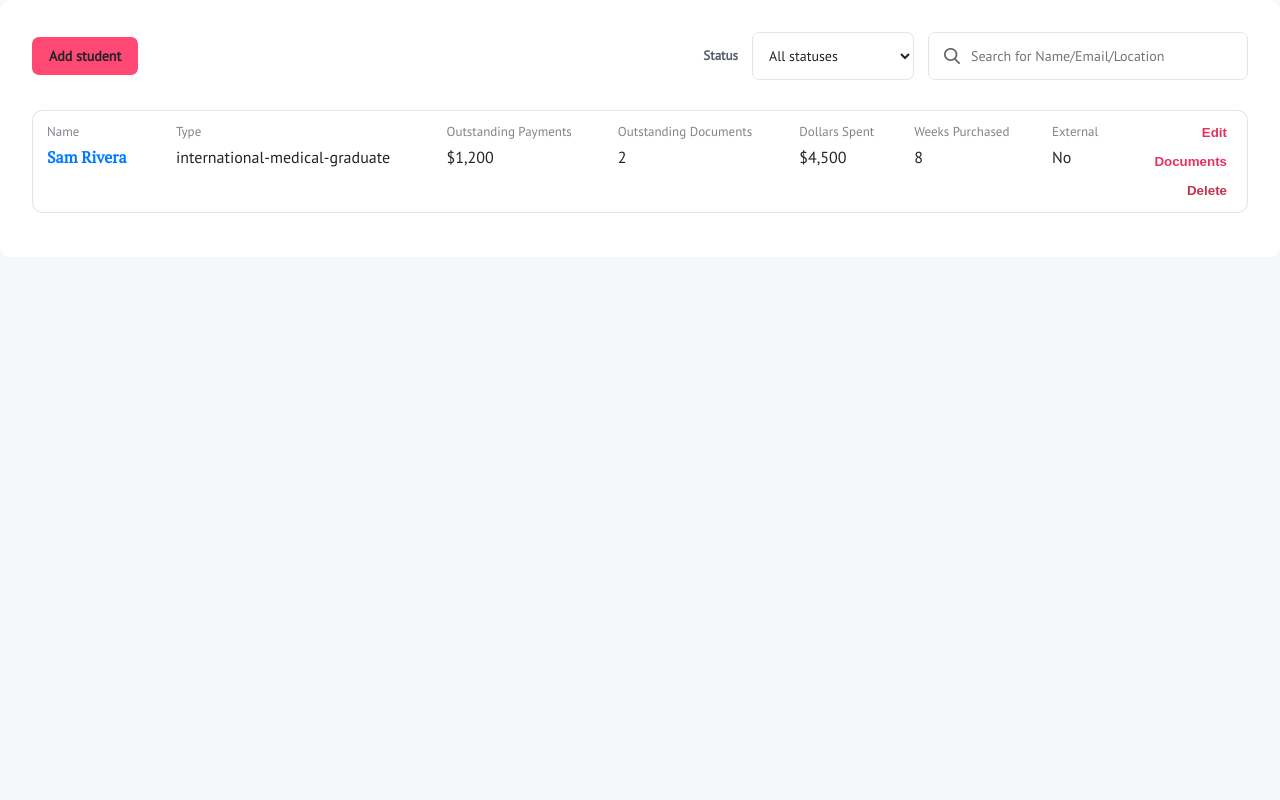
Test: StudentsPage › surfaces a server duplicate-email error in the form
Expected: the link "Sam Rivera" is shown, [47,146,126,168]
Click the button "Add student" at (85, 56), box [32,37,138,75]
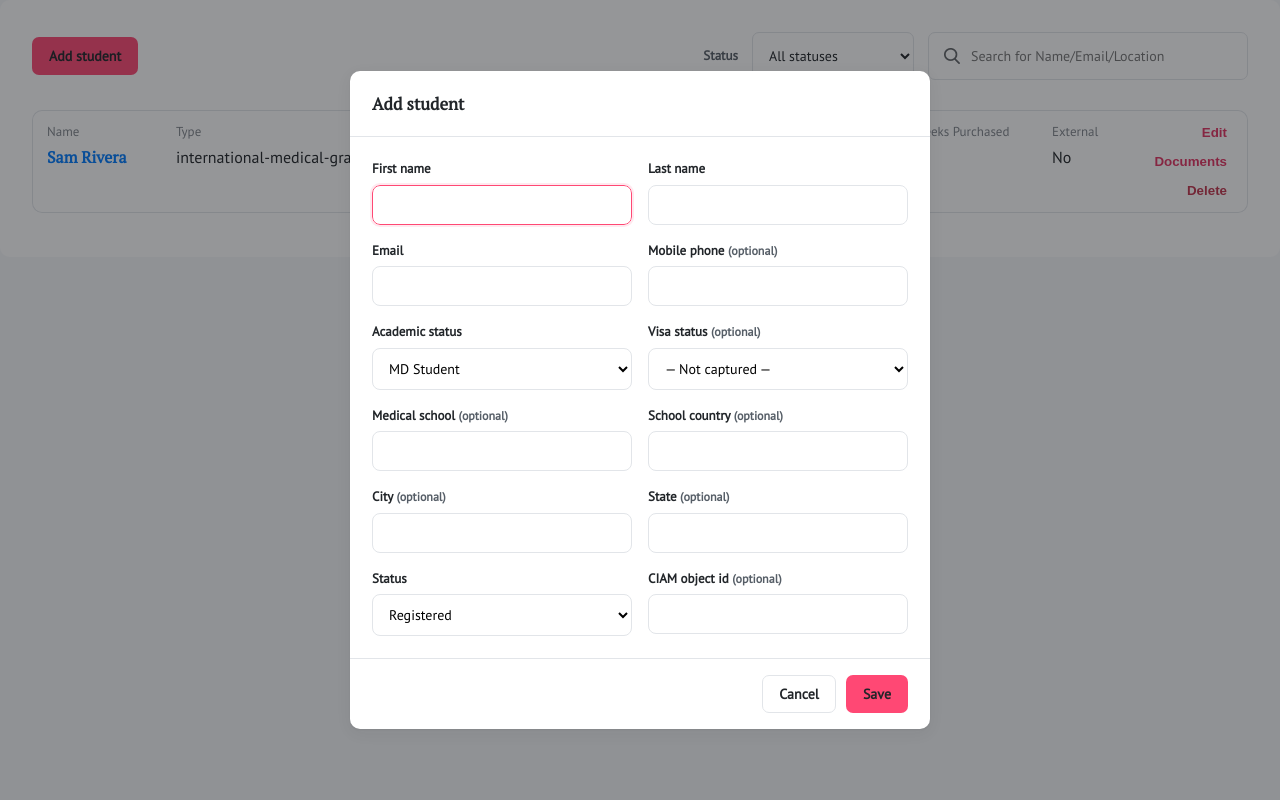
Type "Dup" into the field labelled "First name" at (502, 205), box [372,185,632,225]
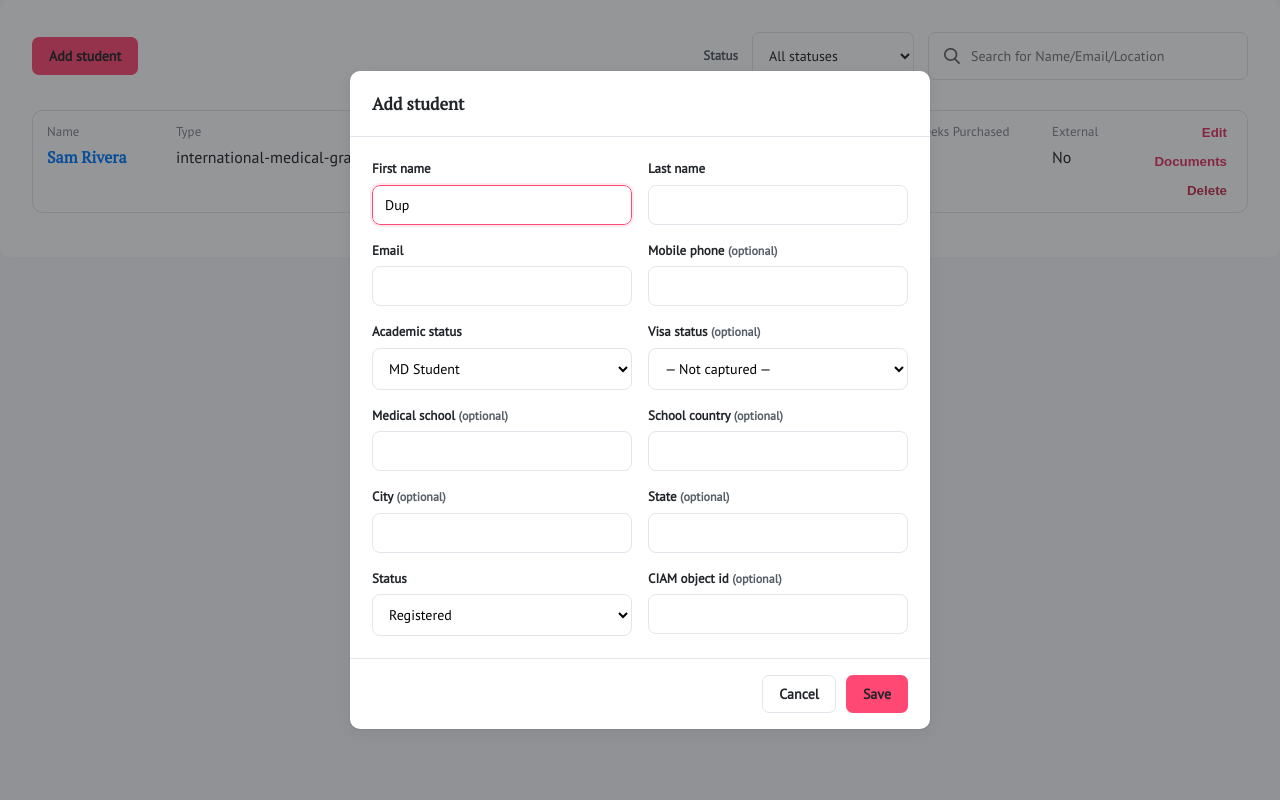
Type "Licate" into the field labelled "Last name" at (778, 205), box [648,185,908,225]
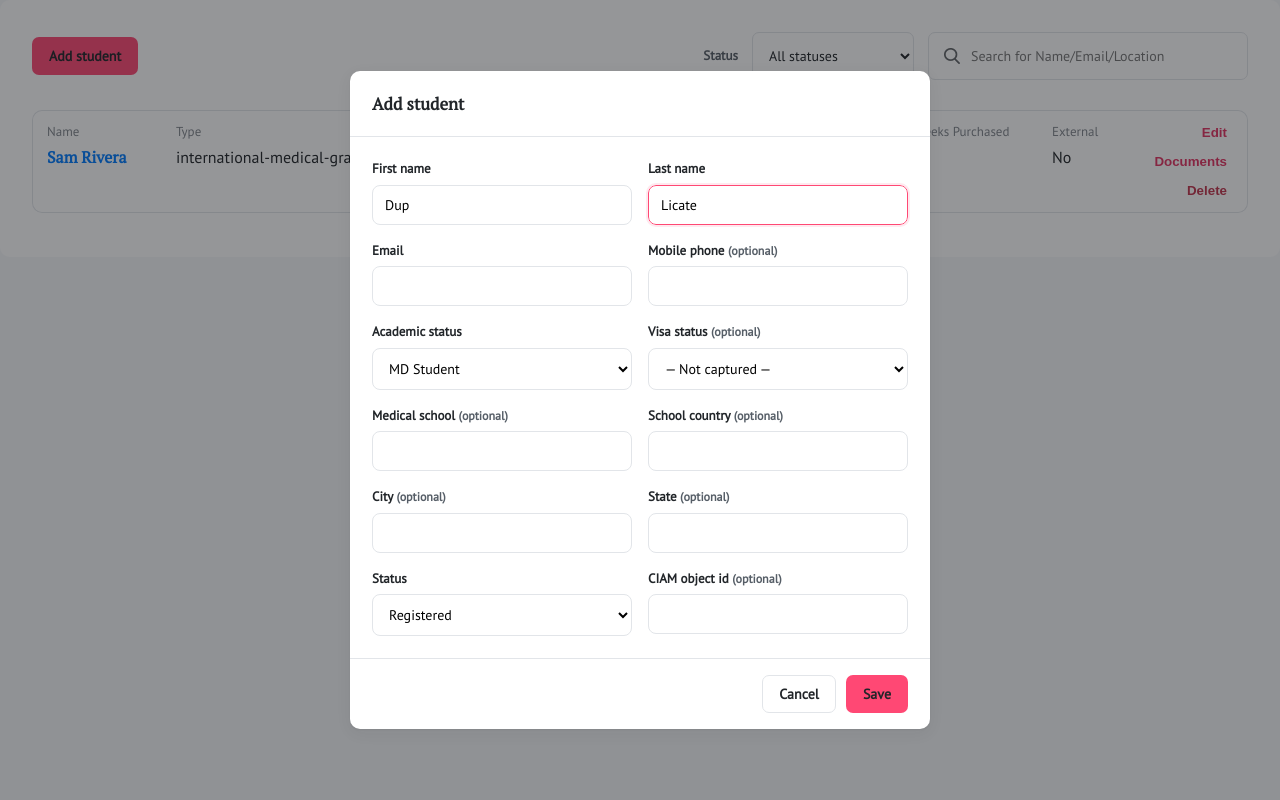
Type "dup@x.com" into the field labelled "Email" at (502, 286), box [372,266,632,306]
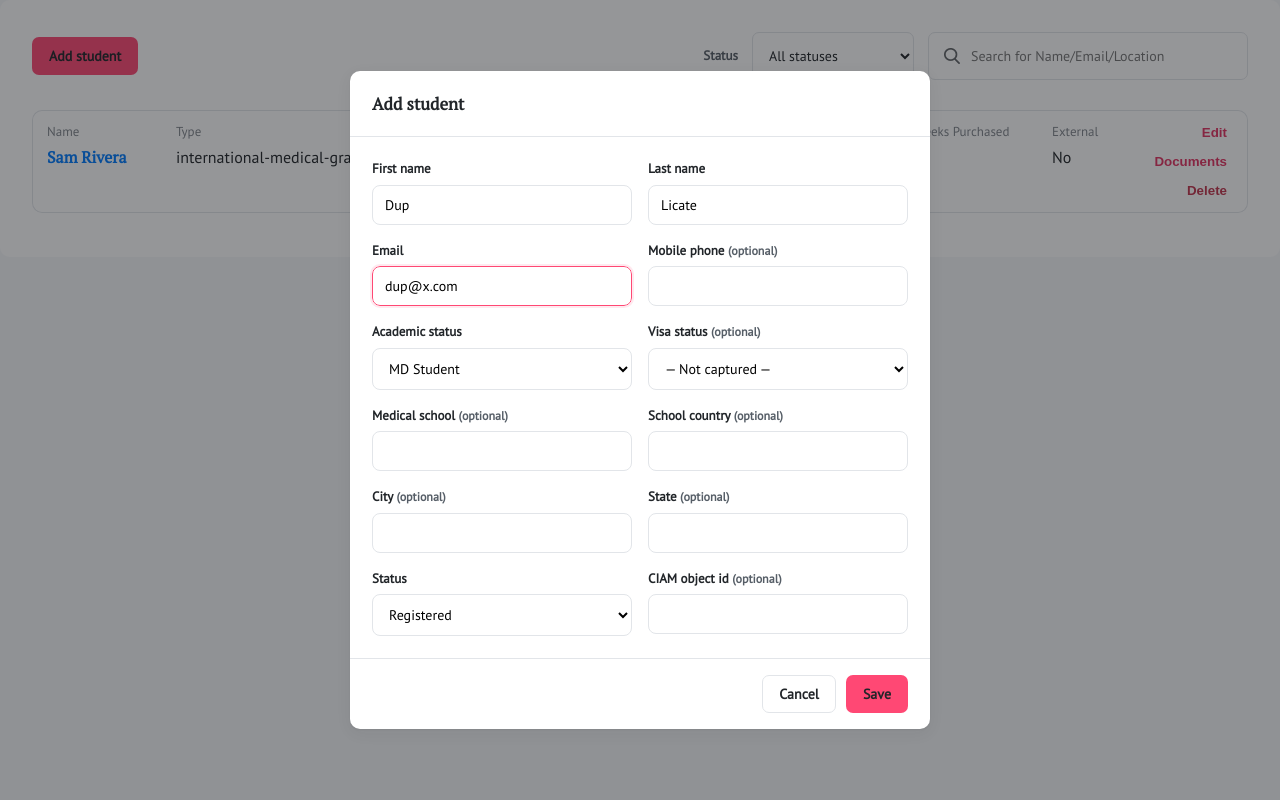
Click the button "Save" at (877, 694), box [846,675,908,713]
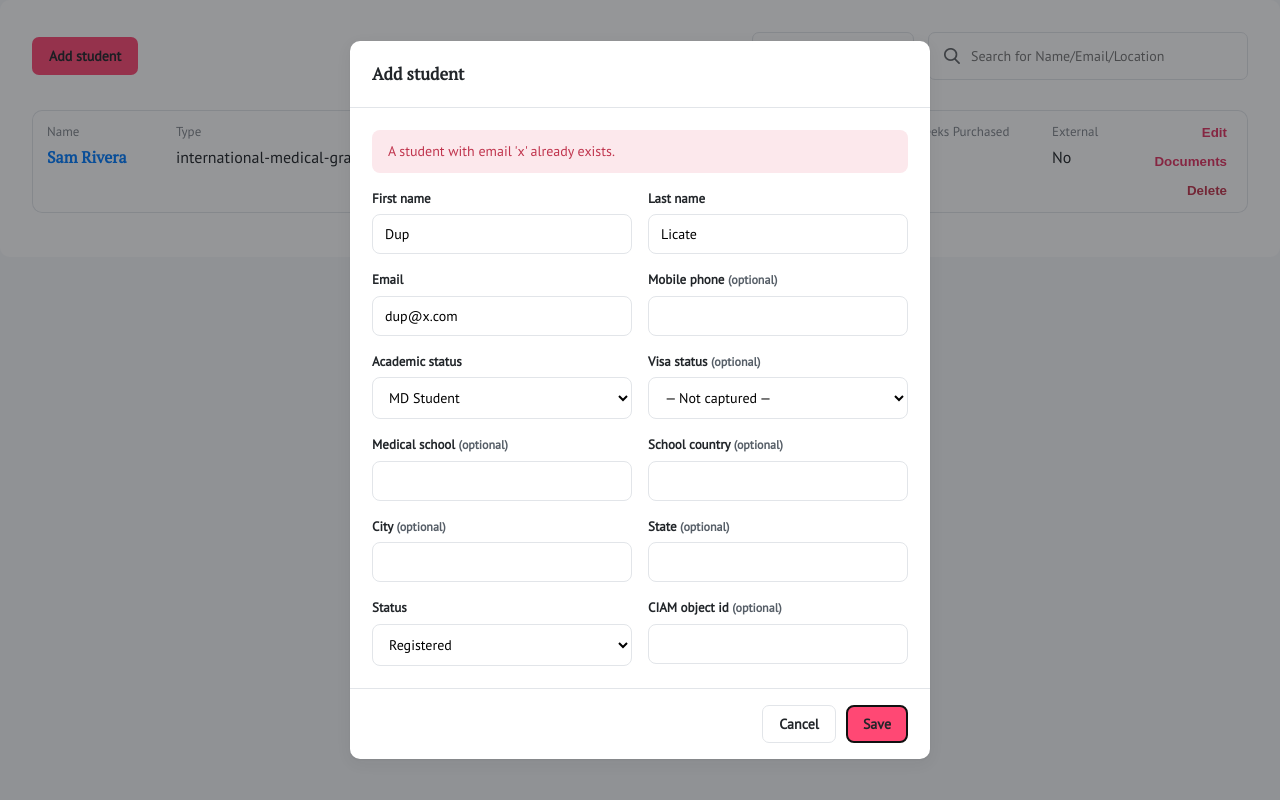
Expected: the text "A student with email 'x' already exists." is shown, [372,130,908,173]
